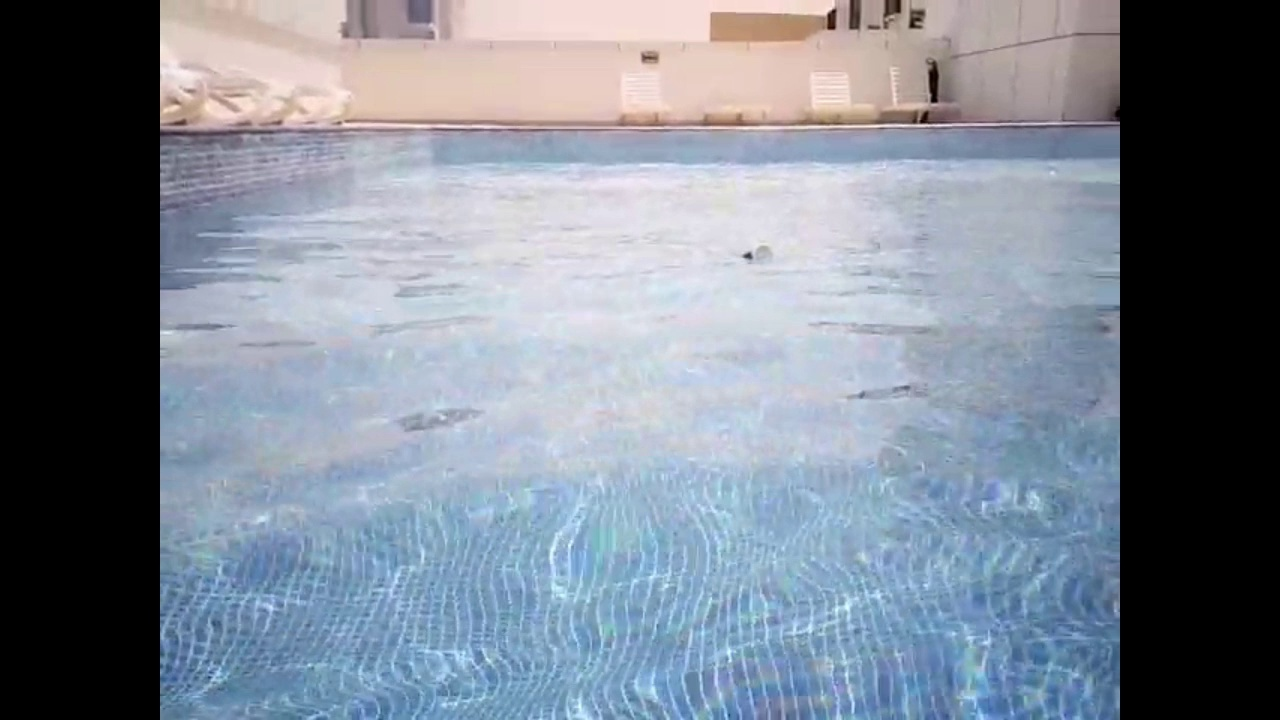debris: (730, 239, 778, 273), (1044, 166, 1060, 180)
